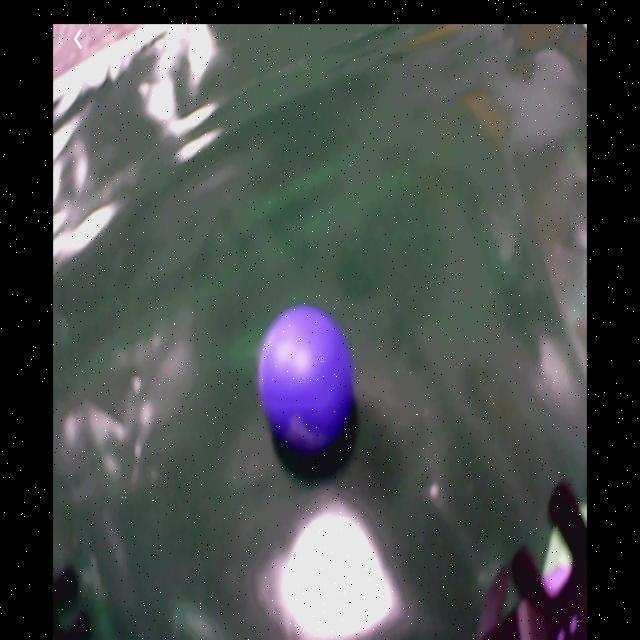ball: (261, 306, 352, 456)
